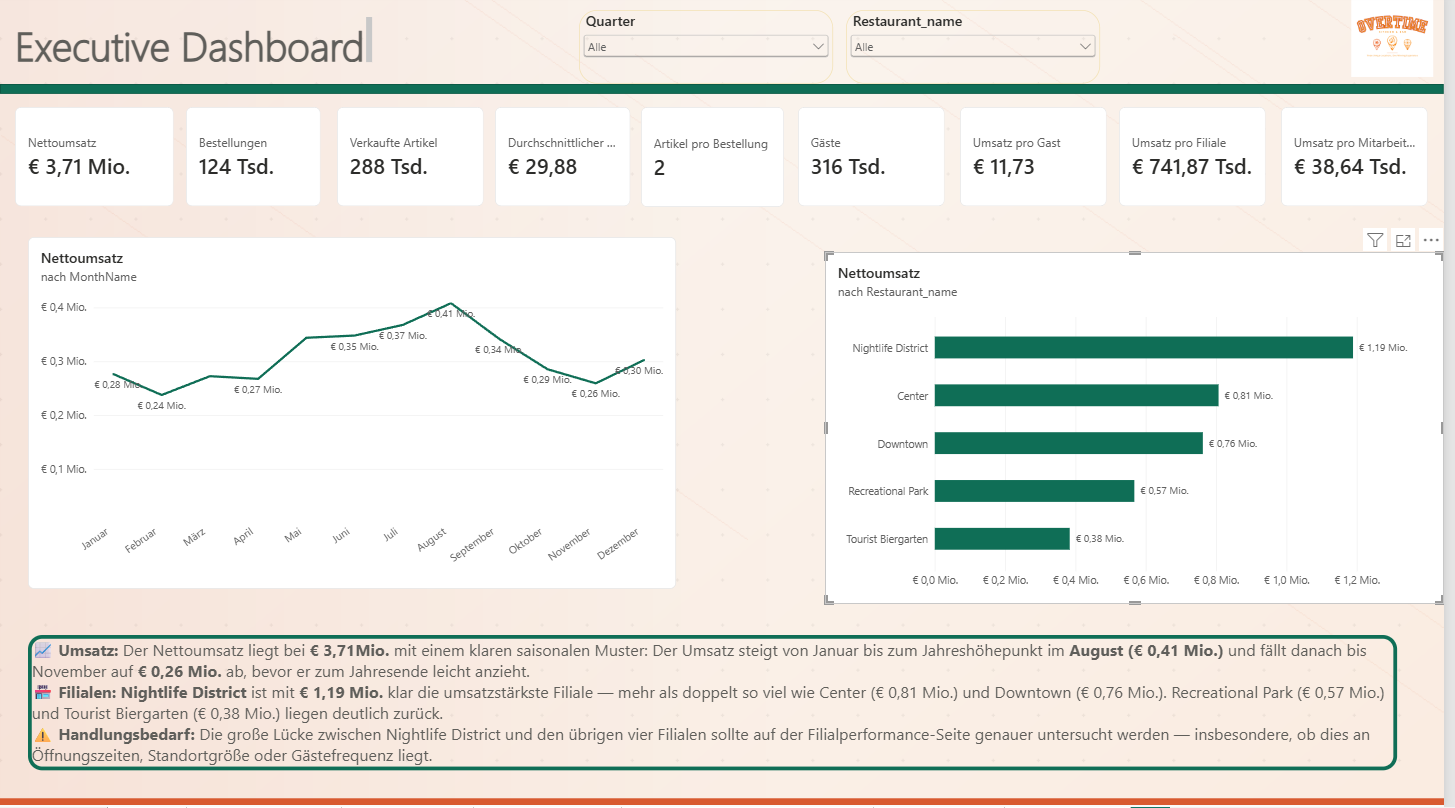

This screenshot's page, from the dashboard's own definition file:
{"tool":"powerbi","page":{"name":"Executive Dashboard","canvas":[1920,1080],"ordinal":1},"visuals":[{"type":"cardVisual","fields":{"Data":["DAX Formula.Net Sales"]},"box":[20,149,211.6,132.8],"z":0},{"type":"cardVisual","fields":{"Data":["DAX Formula.Orders"]},"box":[247.5,149,179.5,132.8],"z":1000},{"type":"slicer","fields":{"Values":["DimDate.Quarter"]},"box":[770.1,20,337.8,98.4],"z":2000},{"type":"cardVisual","fields":{"Data":["DAX Formula.Items Sold"]},"box":[448.9,149,195.5,132.8],"z":3000},{"type":"slicer","fields":{"Values":["dim_restaurants.restaurant_name"]},"box":[1125.2,20,337.8,98.4],"z":4000},{"type":"cardVisual","fields":{"Data":["DAX Formula.Avergae Order Value"]},"box":[659,149,180.9,132.8],"z":5000},{"type":"cardVisual","fields":{"Data":["DAX Formula.Items per Order"]},"box":[852.6,149,190.2,133],"z":6000},{"type":"cardVisual","fields":{"Data":["DAX Formula.Guests"]},"box":[1061.7,149,195.5,132.8],"z":7000},{"type":"cardVisual","fields":{"Data":["DAX Formula.Sales per Guest"]},"box":[1277.1,149,195.5,132.8],"z":8000},{"type":"cardVisual","fields":{"Data":["DAX Formula.Sales per Employee"]},"box":[1704.1,149,195.5,132.8],"z":9000},{"type":"cardVisual","fields":{"Data":["DAX Formula.Sales per Restaurant"]},"box":[1488.6,149,195.5,132.8],"z":10000},{"type":"lineChart","fields":{"Category":["DimDate.MonthName"],"Y":["DAX Formula.Net Sales"]},"box":[37.2,321.9,861.9,468.2],"z":11000},{"type":"barChart","fields":{"Category":["dim_restaurants.restaurant_name"],"Y":["DAX Formula.Net Sales"]},"box":[1097.3,341.8,823.3,468.2],"z":12000},{"type":"textbox","box":[20,29.3,474.8,65.2],"z":13000},{"type":"shape","box":[0,118.4,1920,13.3],"z":14000},{"type":"textbox","box":[37.4,850.8,1820.8,179.6],"z":15000},{"type":"image","box":[1782.3,0,138.3,109.1],"z":16000}]}

Visuals, with their boxes in screenshot pixels (x1, y1, x2, y2), scaled from the page's 1920x1080 canvas onto the 1455x808 screenshot:
cardVisual - DAX Formula.Net Sales: (15, 111, 176, 211)
cardVisual - DAX Formula.Orders: (188, 111, 324, 211)
slicer - DimDate.Quarter: (584, 15, 840, 89)
cardVisual - DAX Formula.Items Sold: (340, 111, 488, 211)
slicer - dim_restaurants.restaurant_name: (853, 15, 1109, 89)
cardVisual - DAX Formula.Avergae Order Value: (499, 111, 636, 211)
cardVisual - DAX Formula.Items per Order: (646, 111, 790, 211)
cardVisual - DAX Formula.Guests: (805, 111, 953, 211)
cardVisual - DAX Formula.Sales per Guest: (968, 111, 1116, 211)
cardVisual - DAX Formula.Sales per Employee: (1291, 111, 1440, 211)
cardVisual - DAX Formula.Sales per Restaurant: (1128, 111, 1276, 211)
lineChart - DimDate.MonthName x DAX Formula.Net Sales: (28, 241, 681, 591)
barChart - dim_restaurants.restaurant_name x DAX Formula.Net Sales: (832, 256, 1454, 606)
textbox: (15, 22, 375, 71)
shape: (0, 89, 1454, 99)
textbox: (28, 637, 1408, 771)
image: (1351, 0, 1454, 82)
